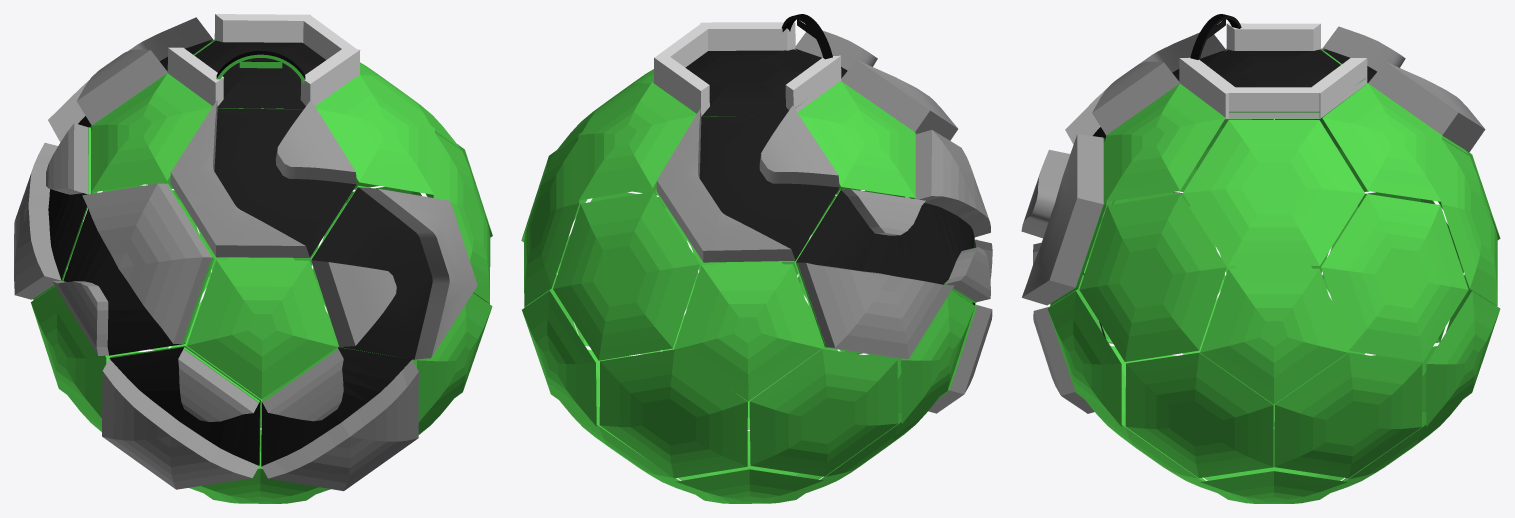
File: PlanetV3.FBX
The picture shows the model from 3 angles, left to right: view 1: azimuth 30°, elevation 25°; view 2: azimuth 150°, elevation 25°; view 3: azimuth 270°, elevation 25°; orthographic projection. The views are drawn at different scales.
Parts seen in each view (by area): view 1: penta06, BaseColidBox008, BaseColidBox006, BaseColidBox007, BaseColidBox005, BaseColidBox004, RoadCOll004, RoadCOll005, penta04, penta05, BaseColidBox003, BaseColidBox009 (+12 smaller); view 2: Tile_082, Tile_076, Tile_075, penta03, BaseColidBox009, BaseColidBox010, RoadCOll006, penta01, penta04, BaseColidBox003, RoadColl004, BaseColidBox008 (+14 smaller); view 3: Tile_083, Tile_069, Tile_064, penta00, Tile_070, Tile_071, BaseColidBox005, BaseColidBox003, penta01, penta05, BaseColidBox010, Tile_082 (+13 smaller).
Part boxes in pixels (bbox=[...]): penta06: bbox=[186, 259, 337, 399]; BaseColidBox008: bbox=[52, 183, 211, 355]; BaseColidBox006: bbox=[261, 348, 418, 491]; BaseColidBox007: bbox=[102, 348, 258, 489]; BaseColidBox005: bbox=[311, 187, 477, 359]; BaseColidBox004: bbox=[170, 100, 356, 257]; RoadCOll004: bbox=[214, 108, 356, 256]; RoadCOll005: bbox=[312, 187, 432, 359]; penta04: bbox=[91, 73, 212, 192]; penta05: bbox=[315, 74, 434, 194]; BaseColidBox003: bbox=[167, 14, 360, 106]; BaseColidBox009: bbox=[14, 123, 88, 299]; Tile_082: bbox=[553, 191, 700, 360]; Tile_076: bbox=[599, 349, 747, 478]; Tile_075: bbox=[749, 349, 898, 476]; penta03: bbox=[673, 264, 821, 401]; BaseColidBox009: bbox=[796, 189, 954, 358]; BaseColidBox010: bbox=[656, 105, 839, 262]; RoadCOll006: bbox=[699, 115, 839, 259]; penta01: bbox=[578, 82, 696, 200]; penta04: bbox=[797, 81, 915, 197]; BaseColidBox003: bbox=[654, 22, 841, 116]; RoadColl004: bbox=[796, 190, 944, 284]; BaseColidBox008: bbox=[915, 130, 990, 302]; Tile_083: bbox=[1182, 119, 1365, 265]; Tile_069: bbox=[1079, 194, 1226, 361]; Tile_064: bbox=[1321, 194, 1468, 361]; penta00: bbox=[1200, 268, 1347, 404]; Tile_070: bbox=[1274, 352, 1422, 478]; Tile_071: bbox=[1125, 352, 1273, 478]; BaseColidBox005: bbox=[1021, 134, 1103, 305]; BaseColidBox003: bbox=[1179, 23, 1367, 119]; penta01: bbox=[1322, 84, 1441, 201]; penta05: bbox=[1106, 83, 1225, 201]; BaseColidBox010: bbox=[1322, 26, 1485, 151]; Tile_082: bbox=[1441, 139, 1497, 305].
Size of the model in its own units: 105 by 108 by 106.
